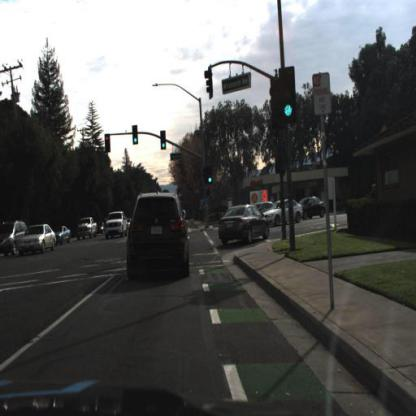car: (122, 189, 194, 288), (217, 200, 273, 248), (18, 222, 58, 257), (1, 219, 30, 261), (264, 197, 306, 225), (103, 210, 128, 242), (299, 198, 330, 223), (76, 216, 98, 243), (56, 224, 74, 248)
trafficLight: (104, 133, 115, 156)
trafficLight-Green: (277, 65, 296, 124), (133, 125, 139, 145), (161, 130, 166, 153), (208, 172, 213, 189)
